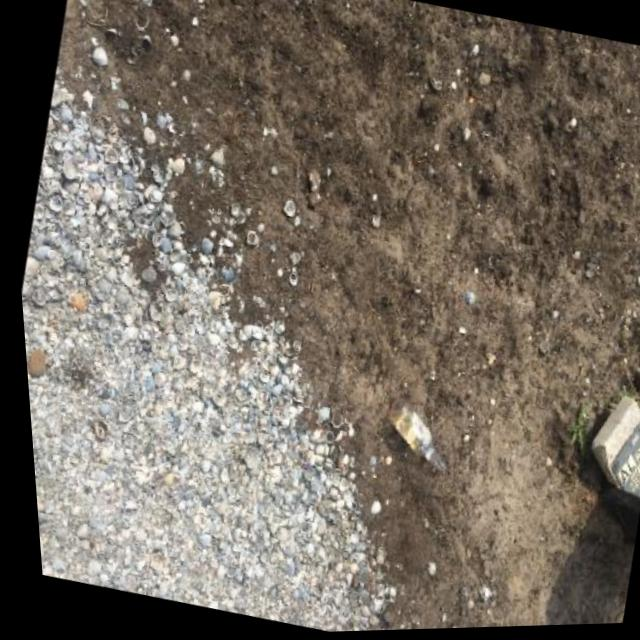glass: (374, 395, 458, 475)
